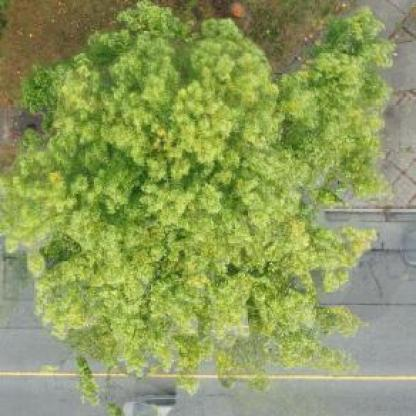Deciduous Tree: (2, 4, 373, 381)
